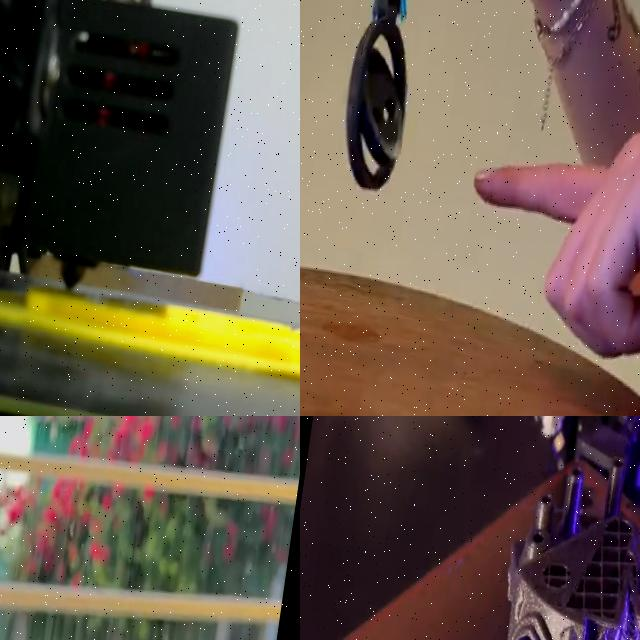spaghetti: (605, 492, 640, 640)
